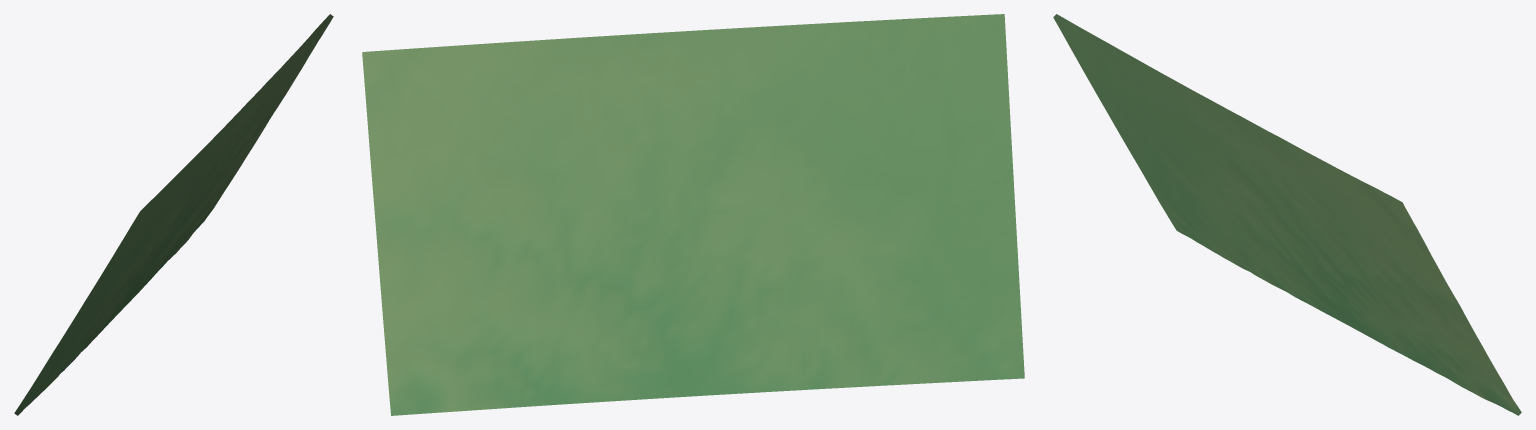
The picture shows the model from 3 angles, left to right: view 1: azimuth 30°, elevation 25°; view 2: azimuth 150°, elevation 25°; view 3: azimuth 270°, elevation 25°; orthographic projection. The views are drawn at different scales.
Parts seen in each view (by area): view 1: geometry_0; view 2: geometry_0; view 3: geometry_0.
Boxes of the visible parts, <box> form: geometry_0: <box>14,14,333,415</box>; geometry_0: <box>362,14,1024,415</box>; geometry_0: <box>1053,14,1521,415</box>.
Bounding box in the file's own units: 264269 × 137806 × 229868.
